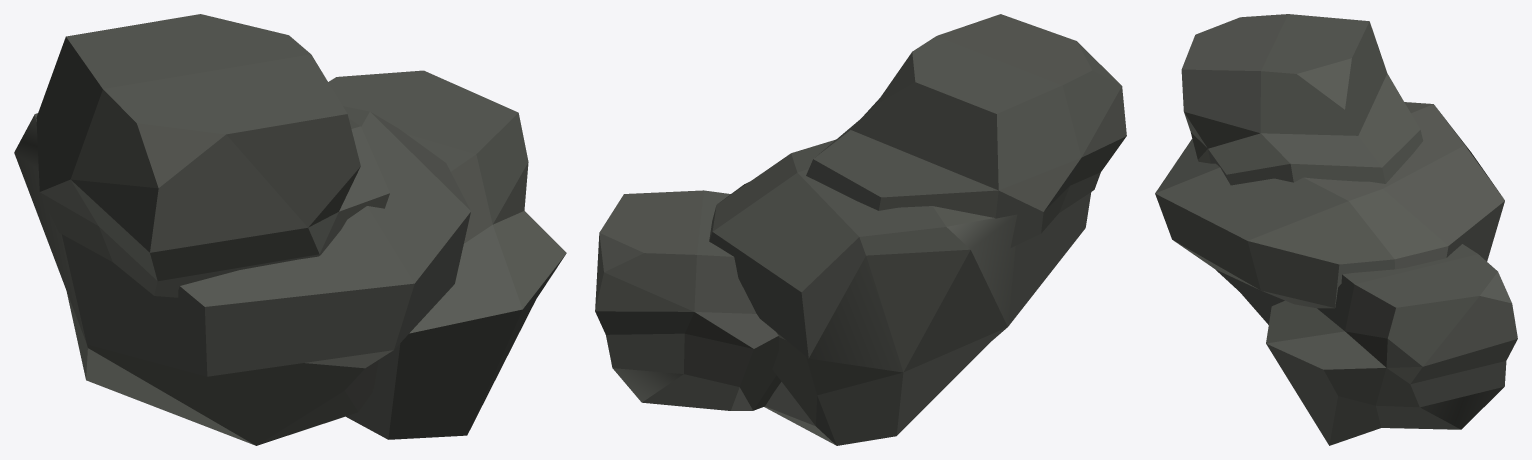
Rendered from Rock_Chunk_03.fbx.
The picture shows the model from 3 angles, left to right: view 1: azimuth 30°, elevation 25°; view 2: azimuth 150°, elevation 25°; view 3: azimuth 270°, elevation 25°; orthographic projection. The views are drawn at different scales.
Visible parts, largest first — view 1: Rock_Chunk_03; view 2: Rock_Chunk_03; view 3: Rock_Chunk_03.
Boxes of the visible parts, box(x1,y1,x2,y2) form: Rock_Chunk_03: box(14, 14, 566, 445); Rock_Chunk_03: box(595, 14, 1126, 445); Rock_Chunk_03: box(1155, 14, 1517, 445).
Bounding box in the file's own units: 371 × 311 × 331.
Materials: 1 (1 with a texture image).
